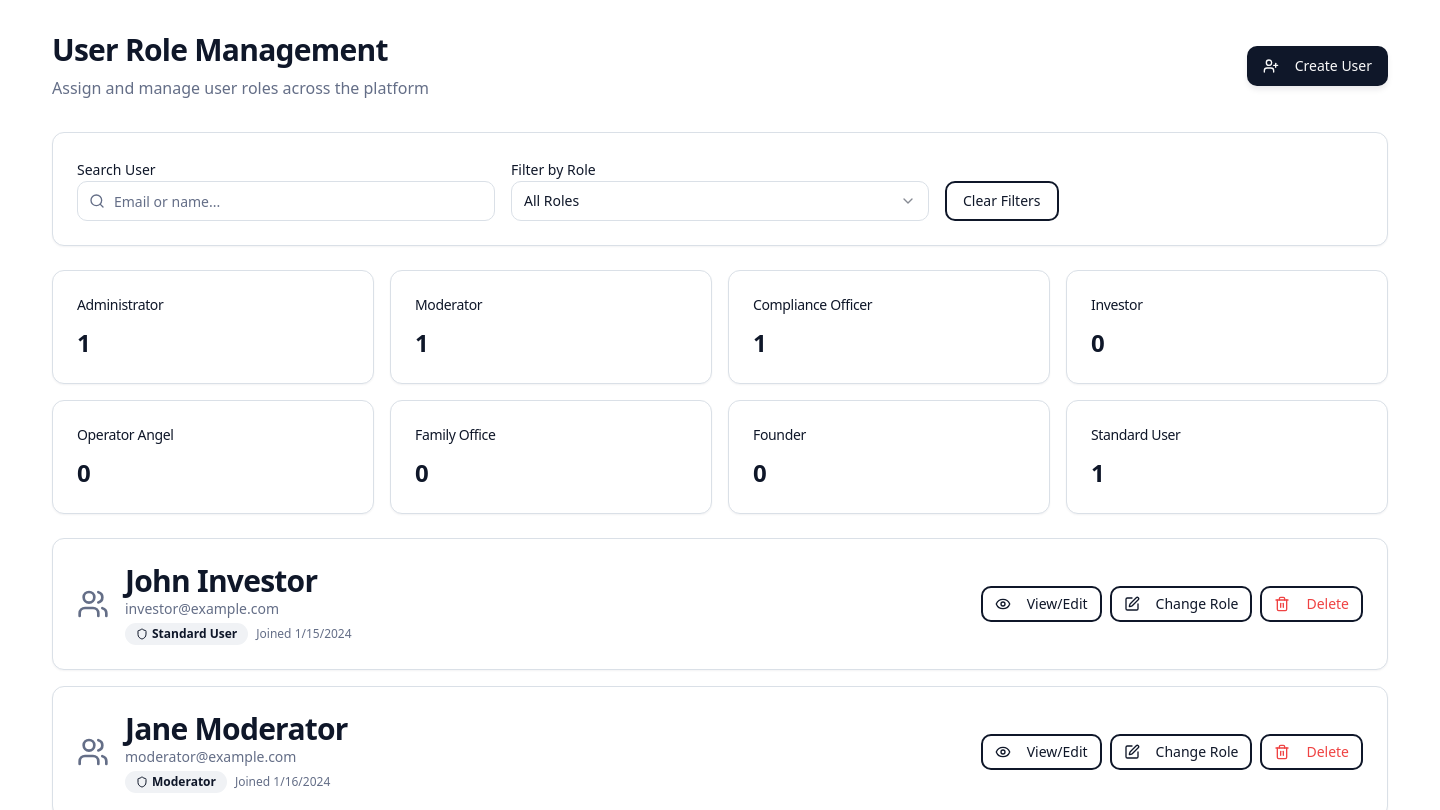
Test case: US-ADMIN-001: User Role Management › Role Assignment › should open role dialog when clicking change role button
Expected: the heading "John Investor" is shown, [125,560,317,601]
// Find and click Change Role button for first user
What coordinates should you click on to do the following:
click the button "Change Role" in the row of "John Investor"
I would click on:
 (1181, 604)
Its box is [1110,586,1252,622].
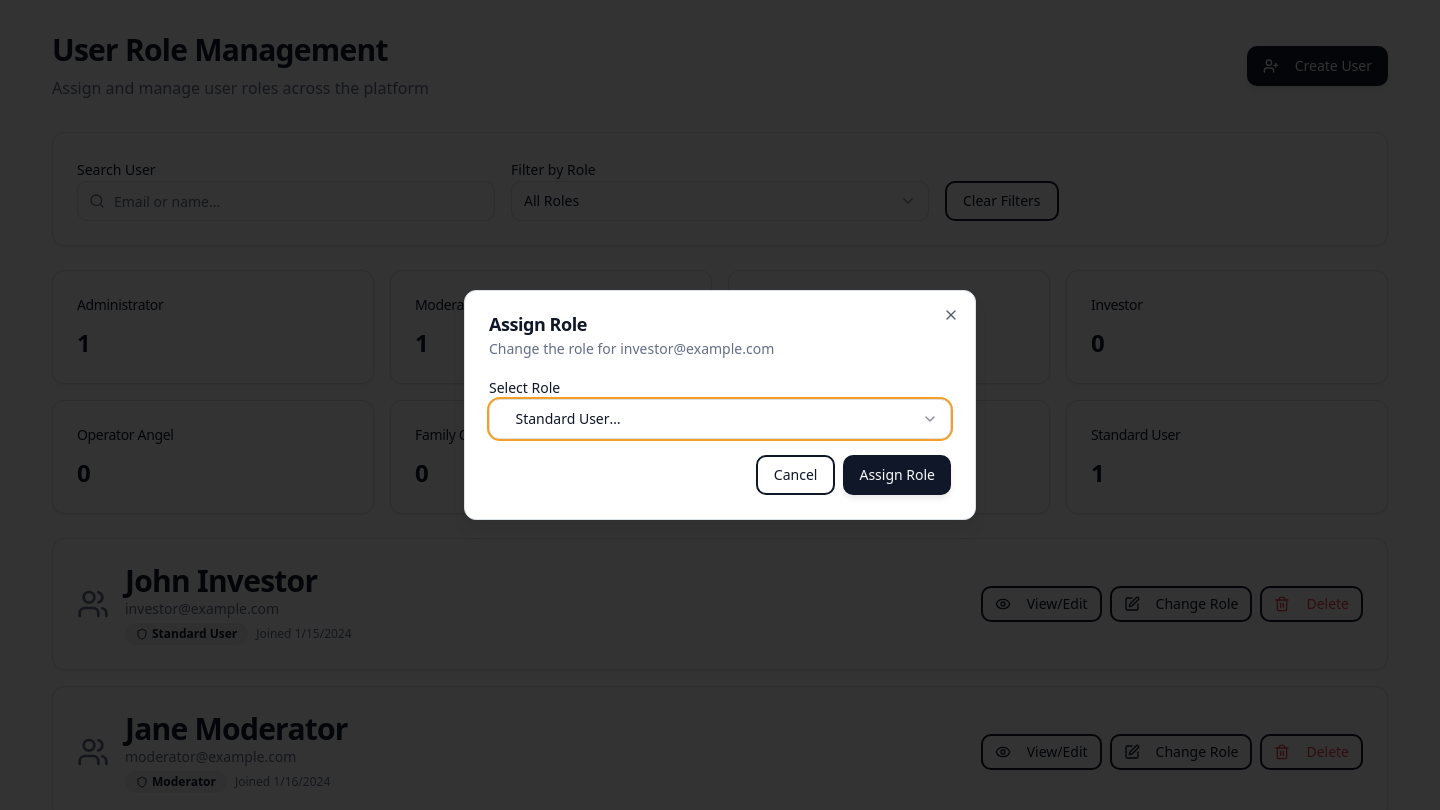
Result: the dialog is shown at [464,290,976,520]
